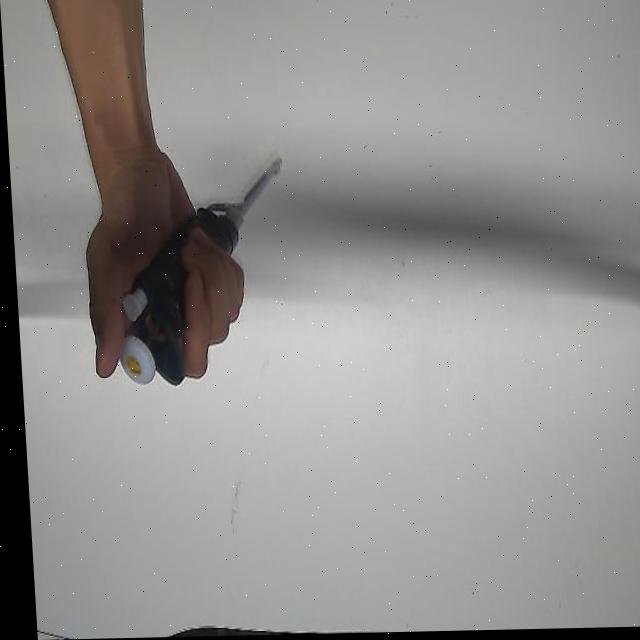Single Channel Pipettor: (104, 151, 296, 392)
